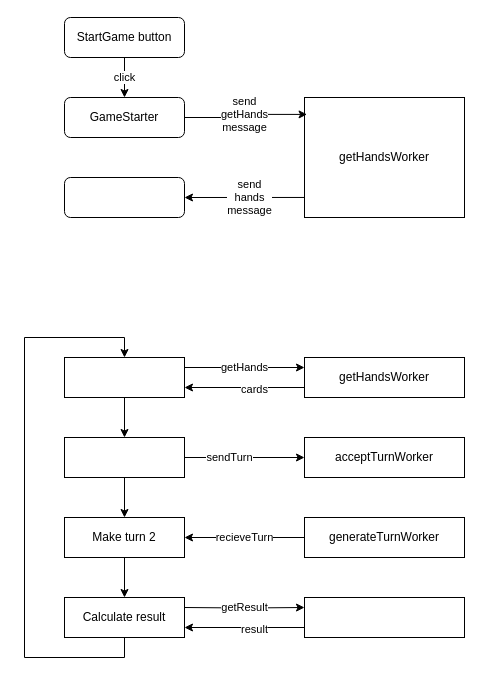
Some shapes in this 482 by 683 pixel diagram are drawn without their labels. Each missing label, with the centre of its shape:
calculateResultWorker: the point at 384,617
draw cards: the point at 124,197
Get Hands: the point at 124,377
Make turn 1: the point at 124,457
